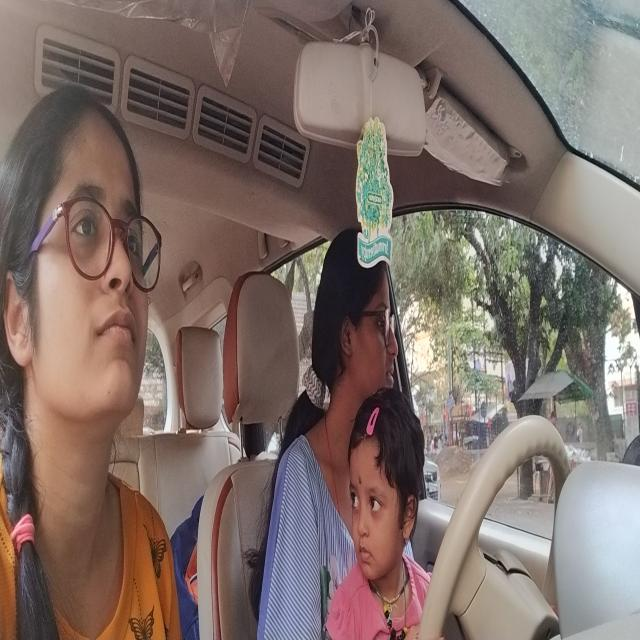child: (346, 387, 430, 588)
person: (1, 74, 161, 482), (311, 220, 398, 408)
